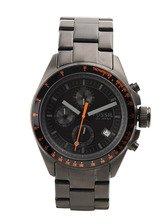watch: (25, 8, 156, 218)
